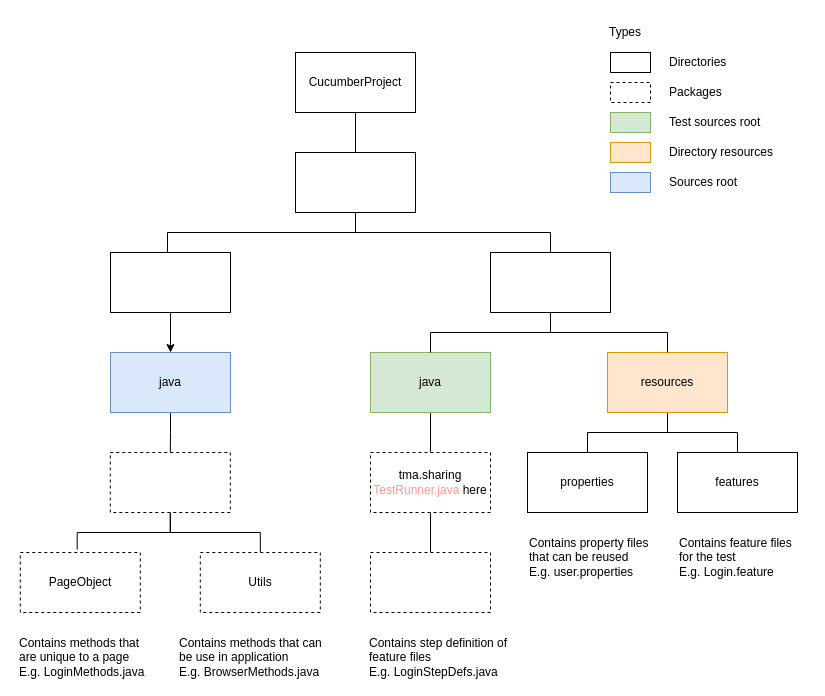
The diagram is 825 pixels wide and 696 high, and some of its shapes have lost their labels. Each missing label, with the centre of its shape:
framework: [170,282]
src: [355,182]
StepDefs: [430,582]
test: [550,282]
tma.sharing: [169,482]
